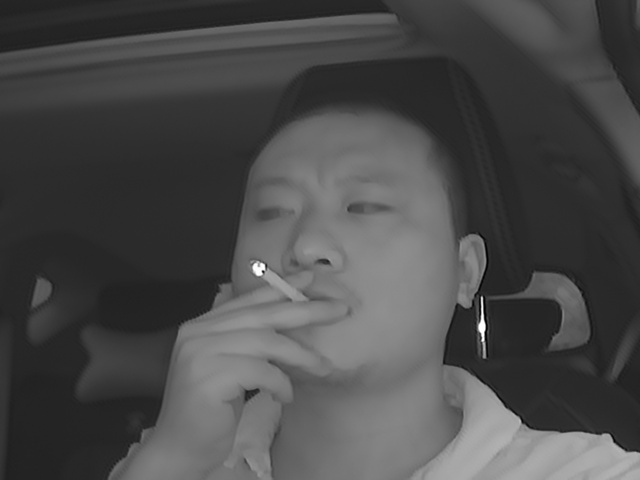hand: (199, 267, 345, 413)
